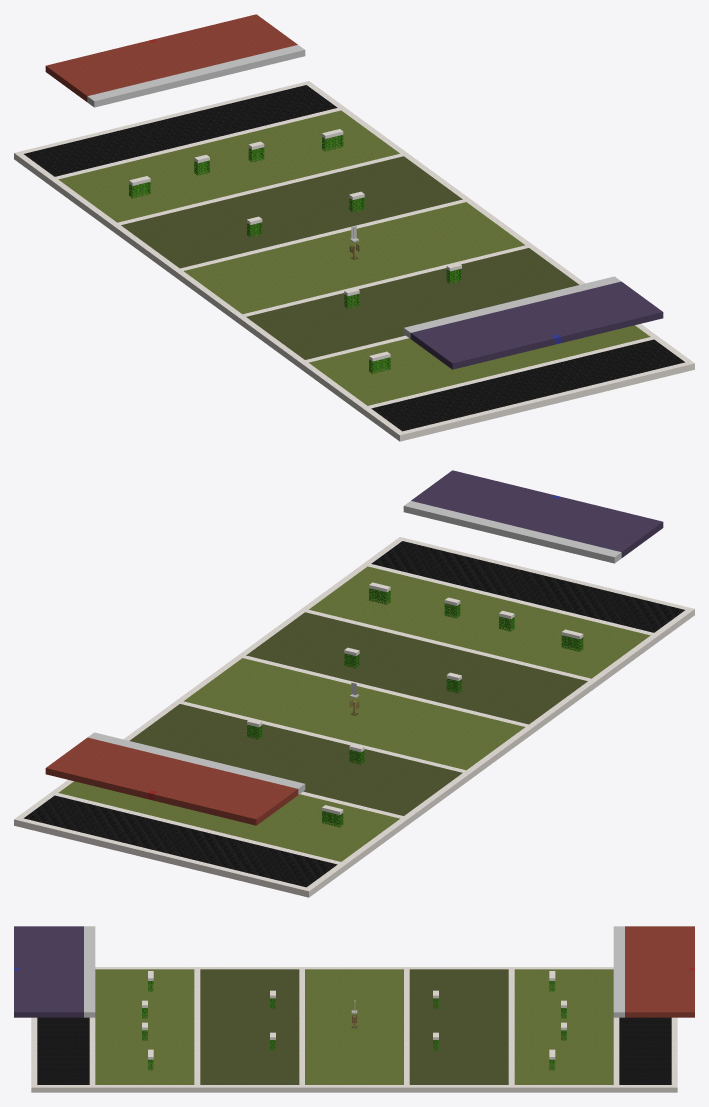
File: minecraft.obj
3 renders of one model, top to bottom at view 1: azimuth 30°, elevation 25°; view 2: azimuth 150°, elevation 25°; view 3: azimuth 270°, elevation 25°, orthographic. The views are drawn at different scales.
Size of the model in its own units: 49 by 12 by 117.
